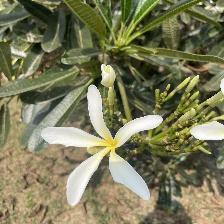champaka: (40, 84, 166, 209)
